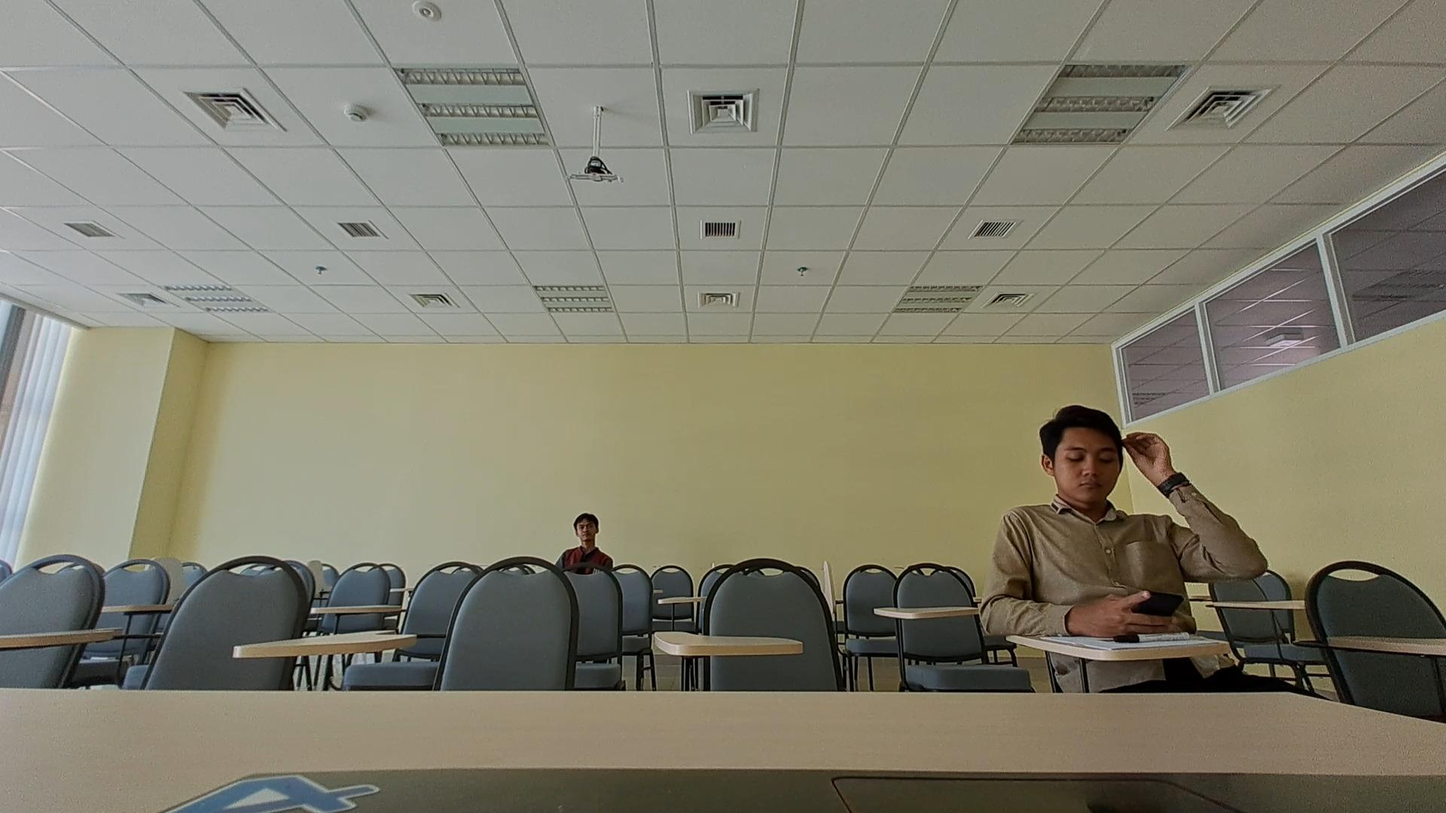phone: (989, 401, 1268, 641)
study: (549, 511, 613, 578)
